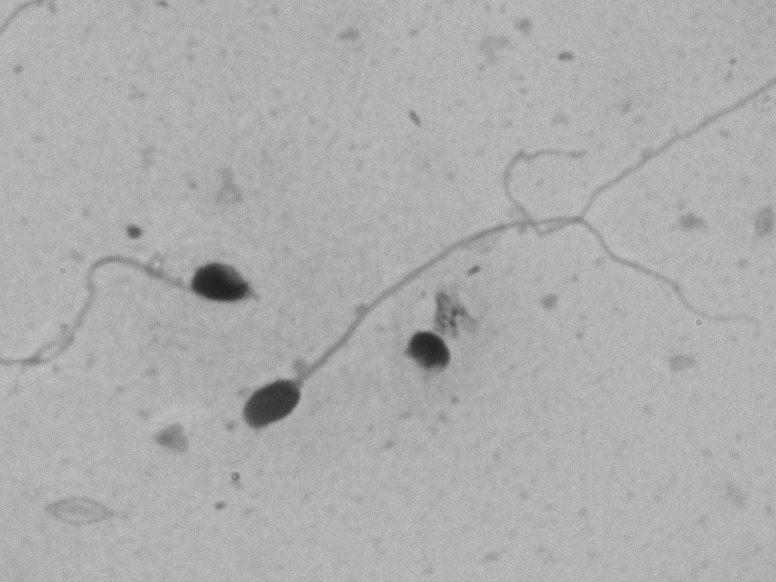Abnormal: (13, 195, 273, 359)
Normal: (232, 203, 765, 449)
